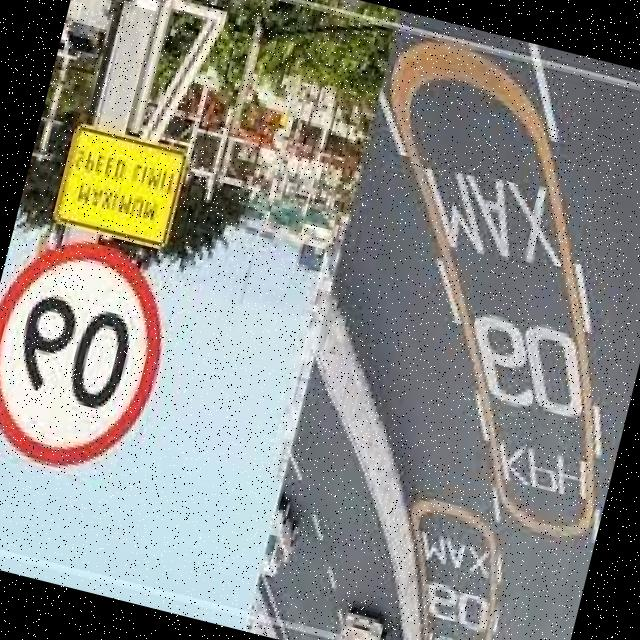speed_limit_60: (0, 217, 190, 496)
